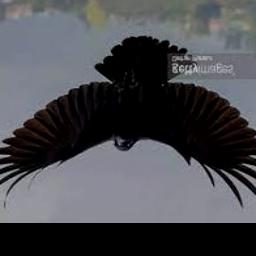Crow: (0, 37, 256, 210)
